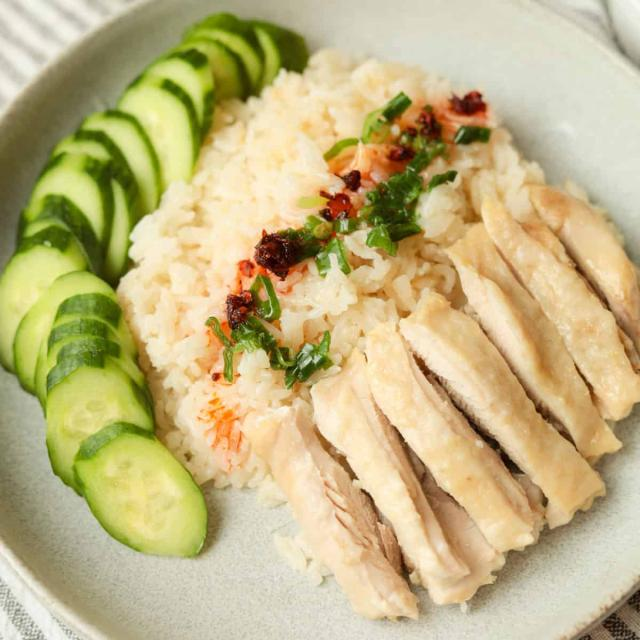Chicken: (257, 150, 639, 619)
Green veg: (0, 13, 308, 557)
Rice: (118, 52, 484, 502), (418, 136, 539, 244)
